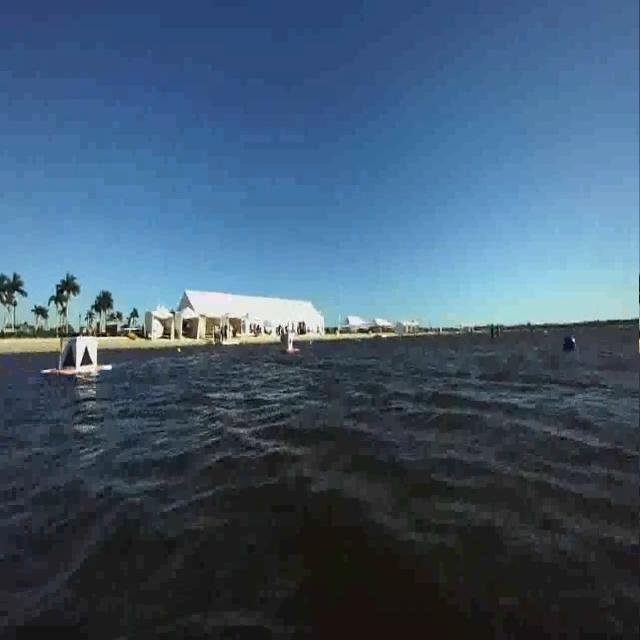blue-buoy: (564, 334, 576, 355)
